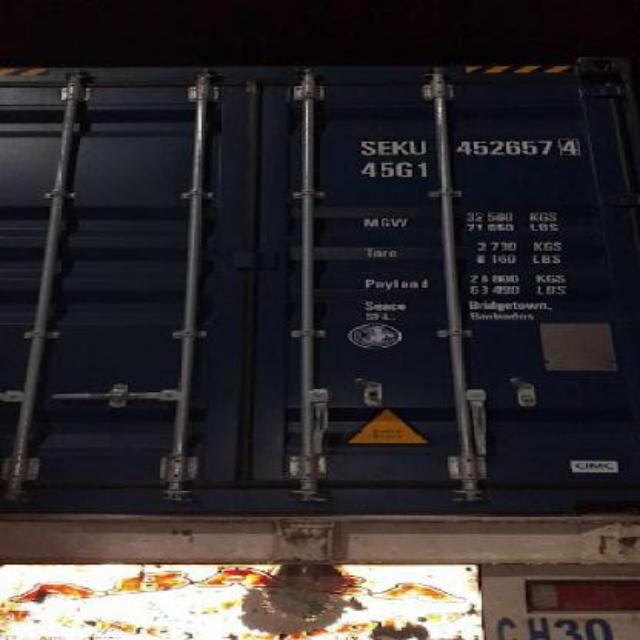2: (490, 140, 508, 156)
4: (454, 139, 474, 157), (558, 138, 578, 156)
5: (518, 138, 540, 156), (472, 138, 490, 156)
6: (504, 139, 520, 157)
7: (538, 139, 556, 157)
E: (376, 138, 392, 158)
K: (390, 138, 410, 158)
S: (356, 140, 380, 156)
U: (408, 138, 432, 158)
